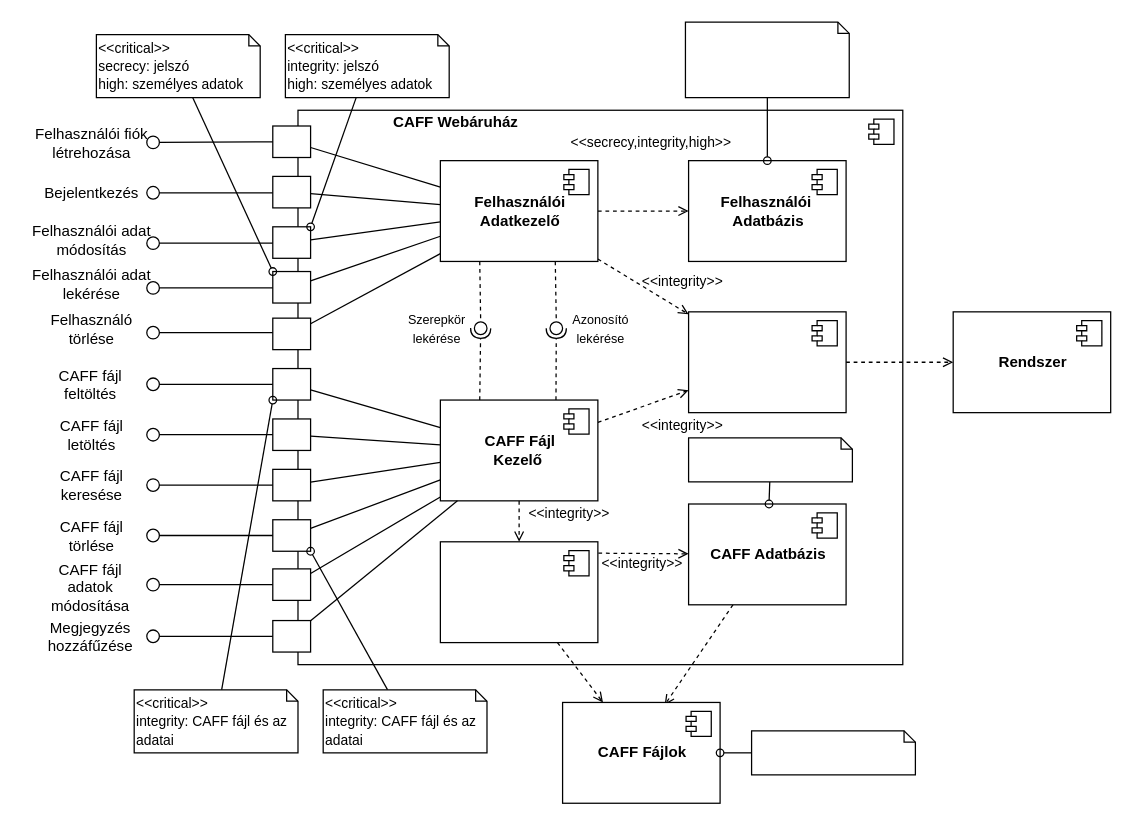
Some shapes in this 1133 by 825 pixel diagram are drawn without their labels. The box of each missing label's shape, as (x1, y1, x2, y2) in pixels:
<<critical>> integrity: CAFF fájl: (750, 730, 915, 775)
<<critical>> integrity: CAFF fájl adatai: (687, 437, 852, 482)
<<critical>> secrecy: jelszó integrity: jelszó high: személyes adatok: (684, 21, 849, 98)
CAFF Fájl Feldolgozó: (439, 541, 598, 643)
Naplózás: (687, 311, 846, 413)
